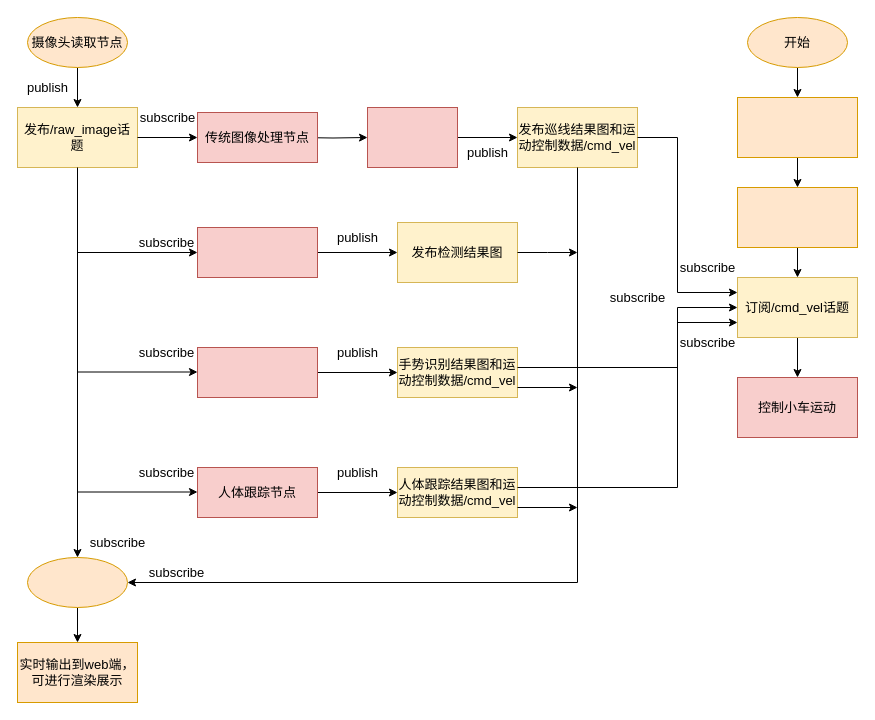
Some shapes in this 875 by 720 pixel diagram are drawn without their labels. Here are the shapes that lost their labels. From the top down, the centre of each, then its label:
the point at 412,137: 智能巡线节点
the point at 797,127: 初始化ROS节点
the point at 797,217: 创建机器人对象并且执行底盘驱动
the point at 257,252: 目标检测节点
the point at 257,372: 手势识别节点
the point at 77,582: websocket节点
